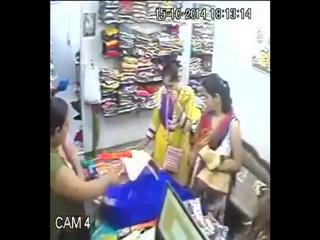Normal: (50, 96, 127, 239), (188, 74, 244, 225)
